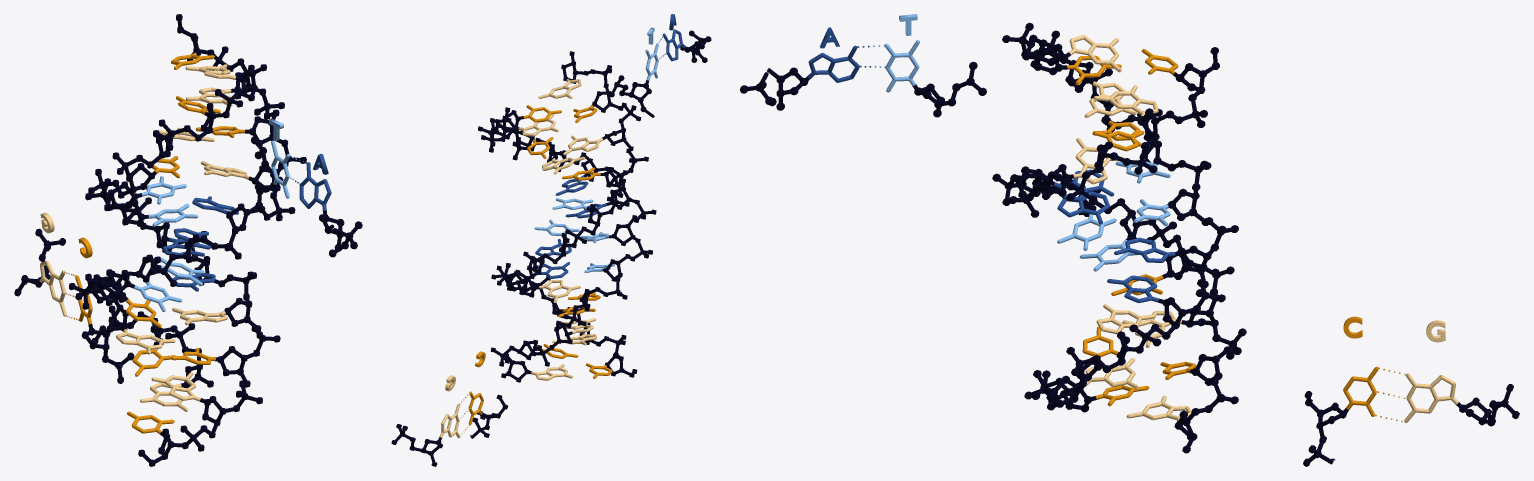
File: DNA.glb
The picture shows the model from 3 angles, left to right: view 1: azimuth 30°, elevation 25°; view 2: azimuth 150°, elevation 25°; view 3: azimuth 270°, elevation 25°; orthographic projection. The views are drawn at different scales.
Visible parts, largest first — view 1: _0_Sphere.003, at, _0_Sphere.002; view 2: _0_Sphere.003, _0_Sphere.002, at; view 3: _0_Sphere.003, _0_Sphere.002, at.
Boxes of the visible parts, x1,y1,x2,y2 form: _0_Sphere.003: (69, 14, 306, 466); at: (244, 119, 362, 257); _0_Sphere.002: (14, 212, 134, 383); _0_Sphere.003: (478, 51, 656, 382); _0_Sphere.002: (391, 351, 508, 466); at: (610, 14, 711, 117); _0_Sphere.003: (992, 22, 1246, 453); _0_Sphere.002: (1303, 316, 1519, 466); at: (740, 14, 986, 117).
Size of the model in its own units: 23.04 by 43.97 by 70.87.
